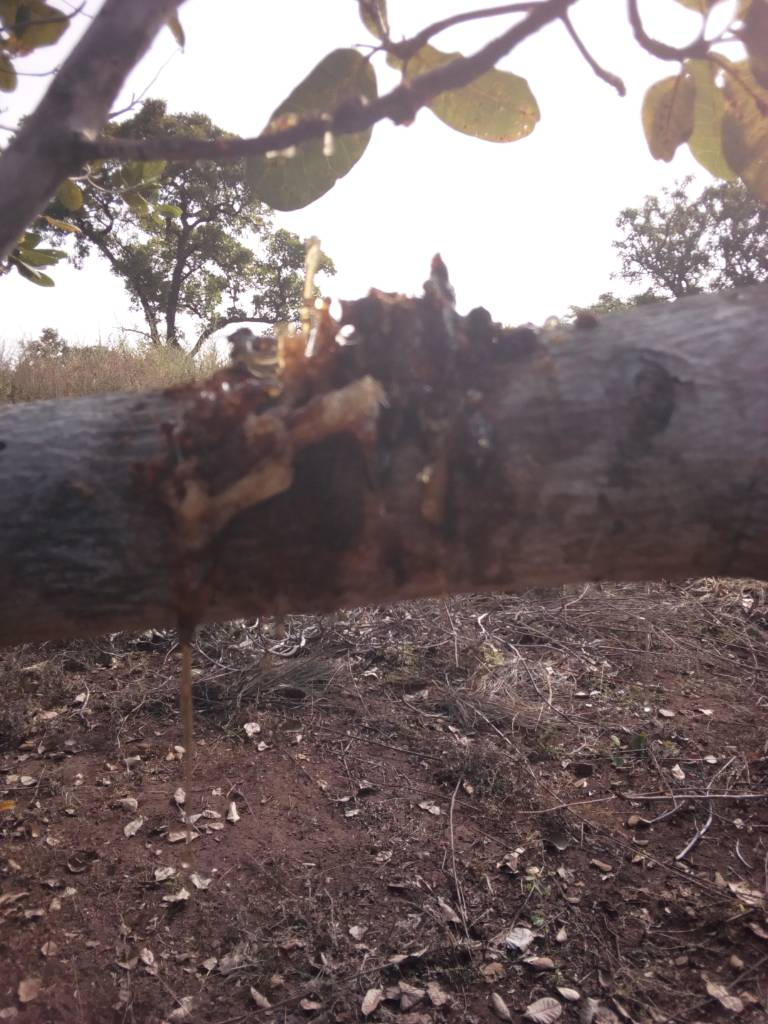Mecocorynus longiceps: (135, 241, 546, 569)
